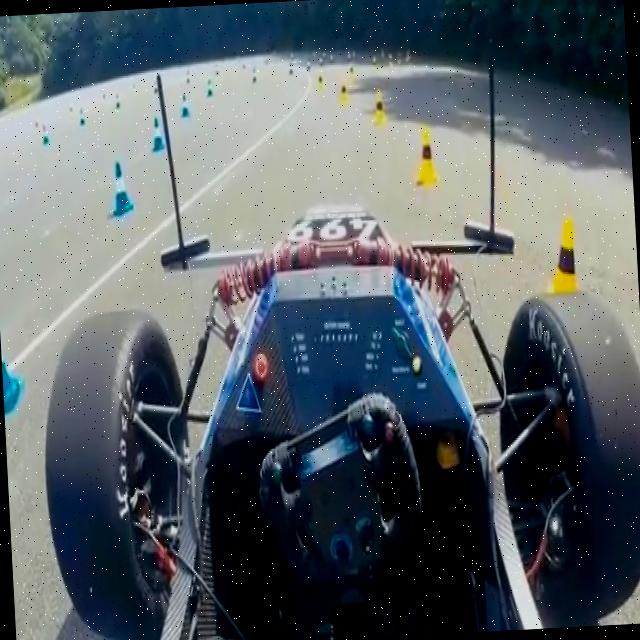blue_cone: (0, 287, 25, 418), (107, 158, 135, 216), (149, 112, 164, 152), (179, 95, 190, 122), (204, 76, 213, 100), (41, 126, 50, 146), (77, 105, 85, 125), (250, 64, 258, 84), (115, 94, 121, 110), (288, 60, 294, 74), (307, 58, 311, 72)
yellow_cone: (544, 218, 596, 334), (418, 130, 439, 193), (371, 88, 389, 128), (338, 80, 350, 110), (317, 73, 325, 94), (34, 116, 40, 135), (69, 102, 75, 120)
